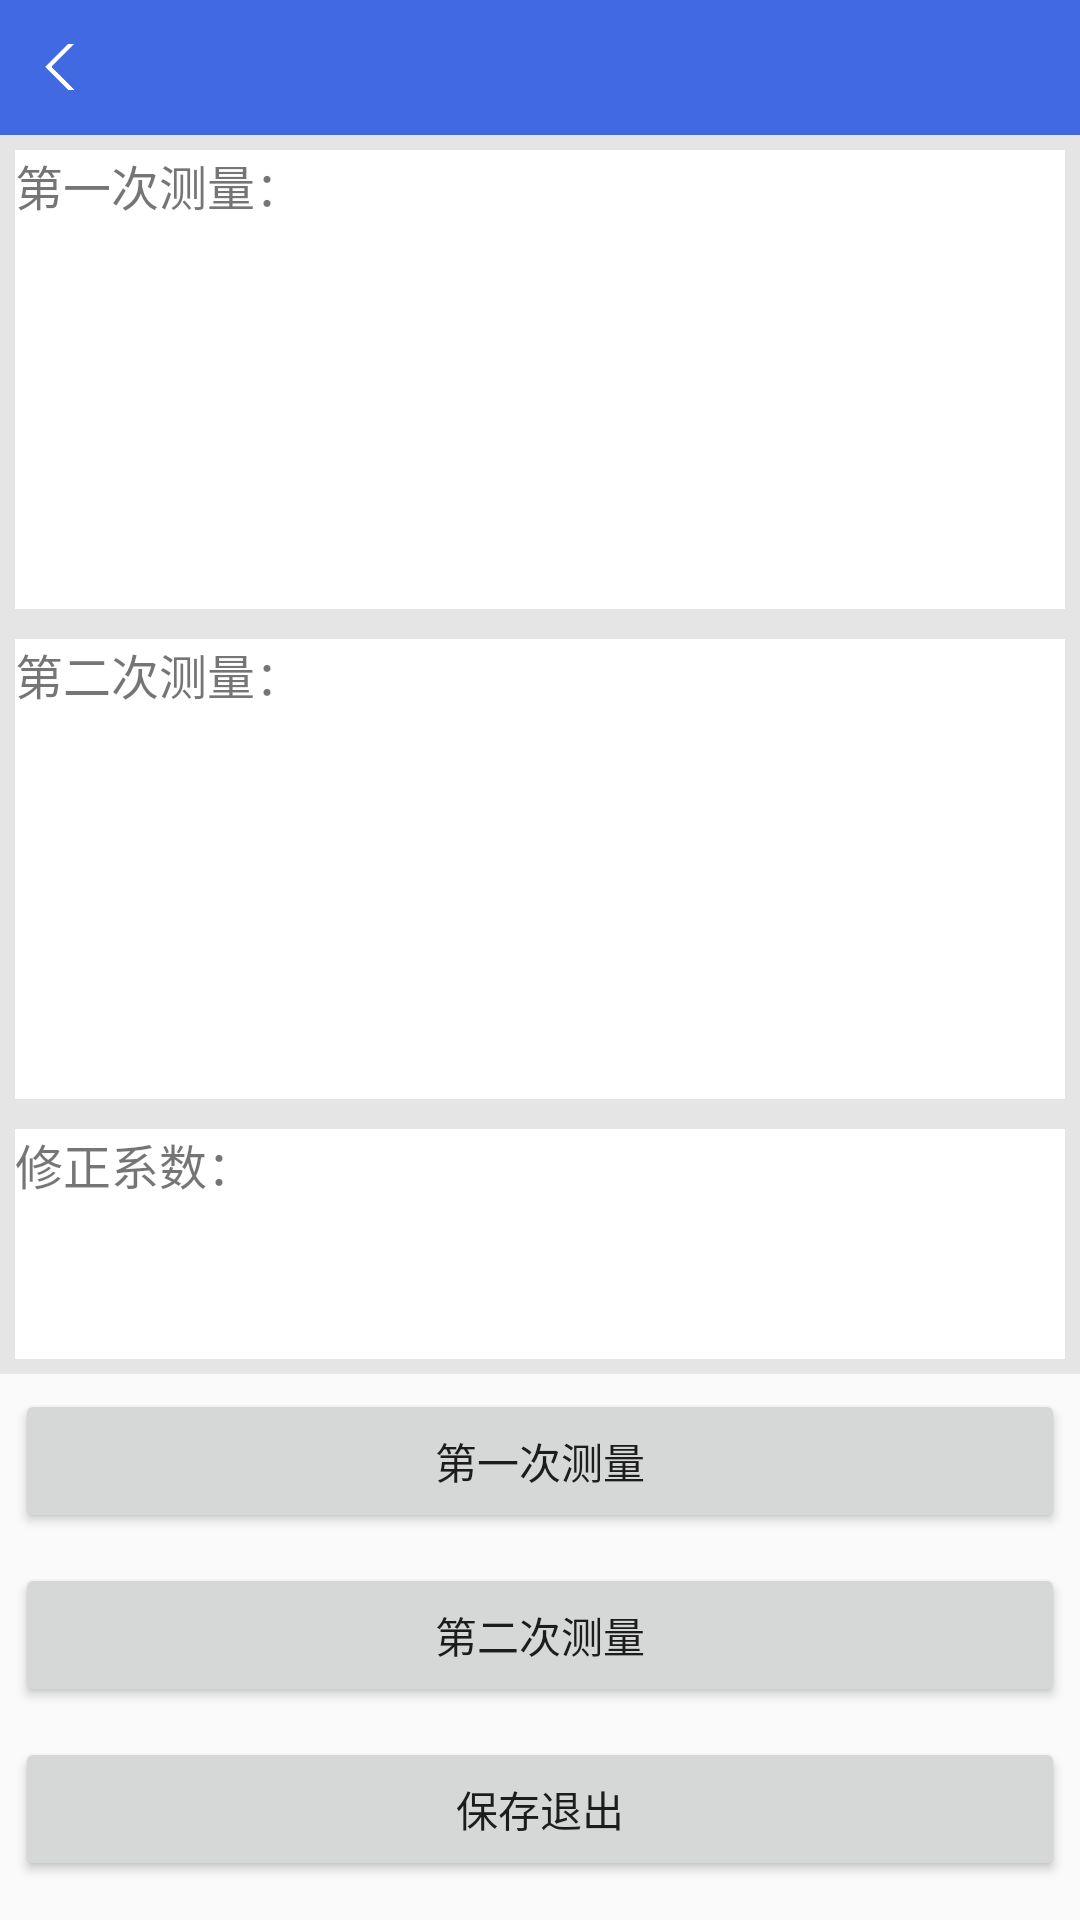

Where to tap for icons on this 1080 x 1920 app screen, as (x=x, y=y):
title back: (x=59, y=67)
